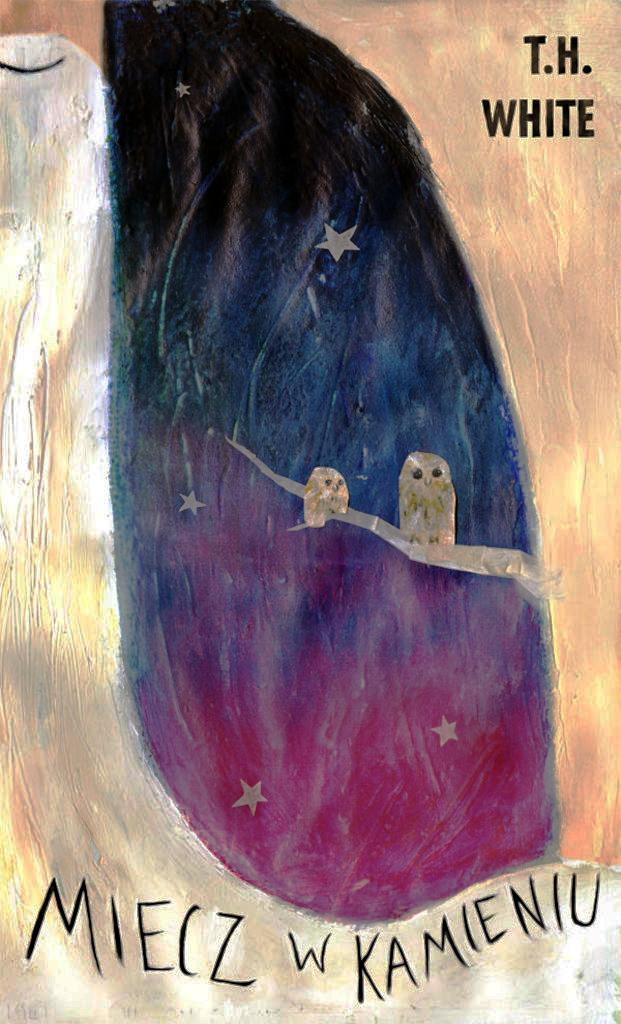Owl: (398, 448, 470, 551), (291, 457, 358, 535)
